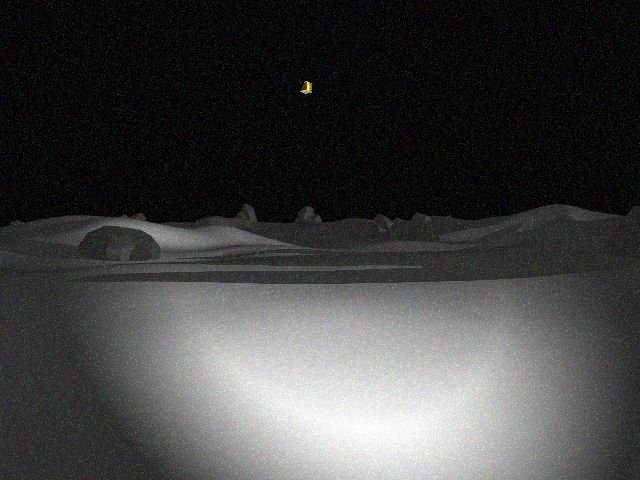cubesat: (297, 77, 314, 98)
